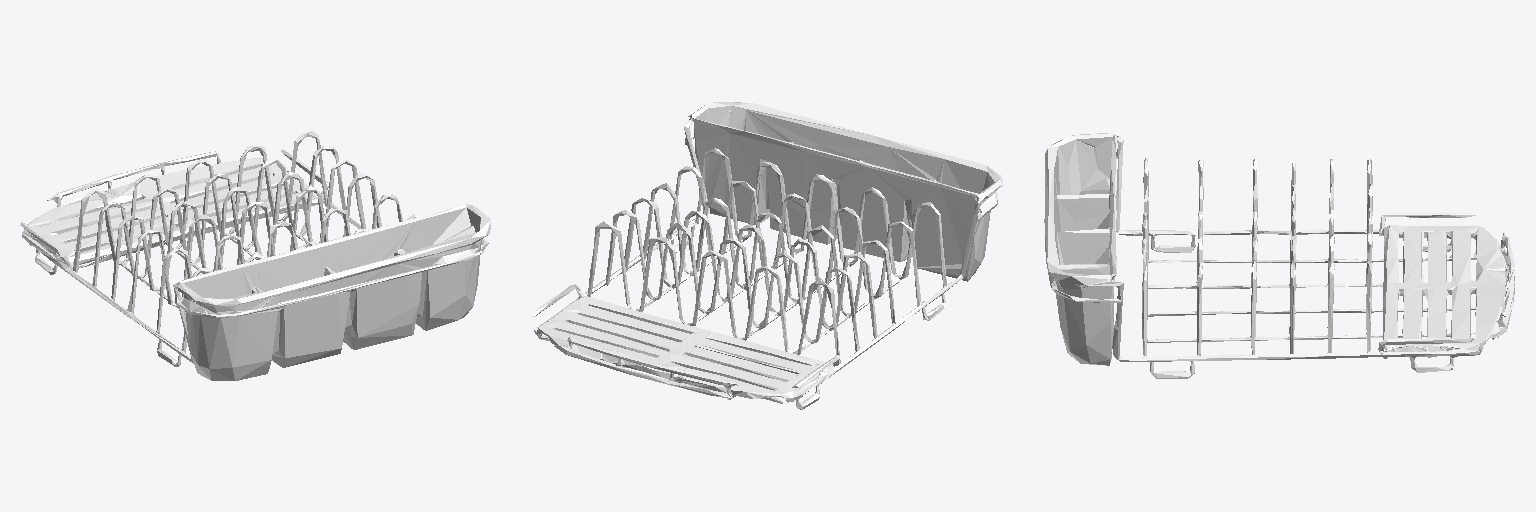
The robot description file, URDF, robot "RubbermaidLargeDrainer":
<robot name="RubbermaidLargeDrainer">
    <link name="base_link">
        <contact>
            <lateral_friction value="1.0" />
        </contact>
        <inertial>
            <origin xyz="-0.007 0.002 0.06" />
            <mass value="4.359980247793292" />
            <inertia ixx="1" ixy="0" ixz="0" iyy="1" iyz="0" izz="1" />
        </inertial>
        <visual>
            <origin xyz="0 0 0" />
            <geometry>
                <mesh filename="model_AlWaistI3nR.obj" />
            </geometry>
            <material name="RubbermaidLargeDrainer">
                <color rgba="1 1 1 1" />
            </material>
        </visual>
        <collision>
            <origin xyz="0 0 0" />
            <geometry>
                <mesh filename="model_AlWaistI3nR_vhacd.obj" />
            </geometry>
        </collision>
    </link>
</robot>

--- What the picture shows (computed from the rendered views, not written in the file) ---
Views: 3 orthographic renders of the robot side by side, from view 1: azimuth 30°, elevation 25°; view 2: azimuth 150°, elevation 25°; view 3: azimuth 270°, elevation 25°.
Robot: RubbermaidLargeDrainer — 1 links, 0 joints (none); root link base_link; default pose: every joint at zero.
Links seen in each view (by area): view 1: base_link; view 2: base_link; view 3: base_link.
Link boxes in pixels (box(x1,y1,x2,y2)): base_link: box(20, 131, 490, 380); base_link: box(533, 102, 1002, 409); base_link: box(1044, 133, 1515, 378).
Bounding box of the posed robot: 0.3396 × 0.4428 × 0.1213 m (x, y, z).
Meshes: 1 distinct files referenced, 1 mesh visuals loaded (1 OBJ).
